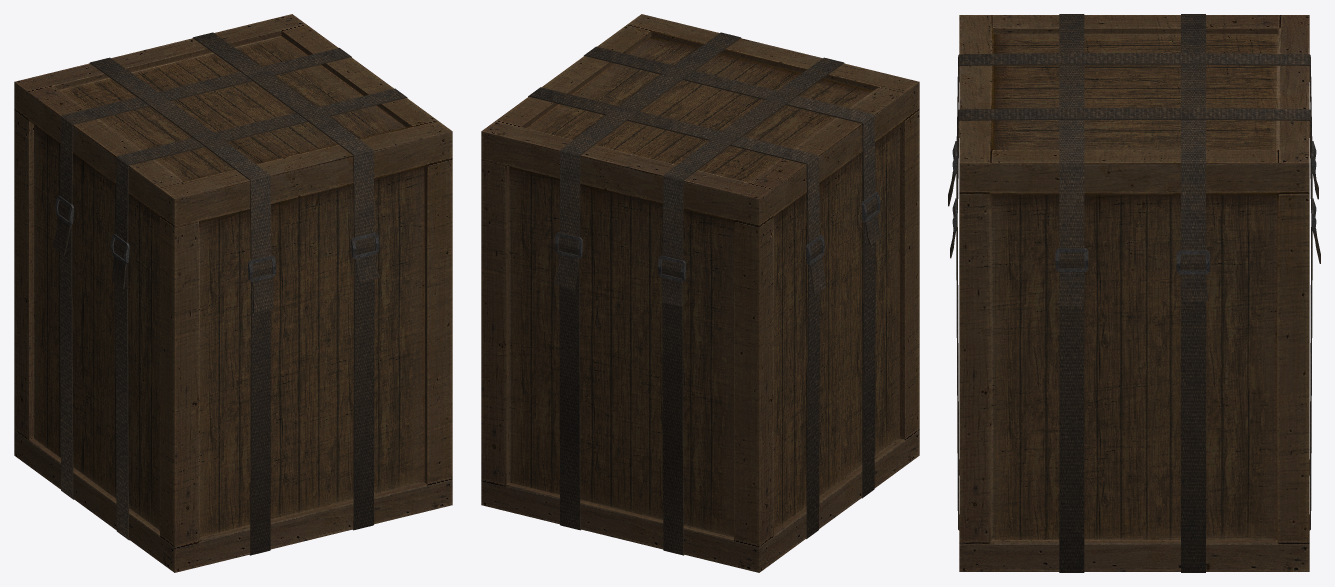
Rendered from wooden_crate_hx_3_2.glb.
3 renders of one model, left to right at view 1: azimuth 30°, elevation 25°; view 2: azimuth 150°, elevation 25°; view 3: azimuth 270°, elevation 25°, orthographic. The views are drawn at different scales.
Parts seen in each view (by area): view 1: wooden_crate_hx_3_2; view 2: wooden_crate_hx_3_2; view 3: wooden_crate_hx_3_2.
Boxes of the visible parts, bbox=[...] form: wooden_crate_hx_3_2: bbox=[14, 14, 452, 572]; wooden_crate_hx_3_2: bbox=[481, 14, 919, 572]; wooden_crate_hx_3_2: bbox=[948, 14, 1320, 572].
Size of the model in its own units: 1.49 by 1.82 by 1.49.
3 materials, 3 textured.
